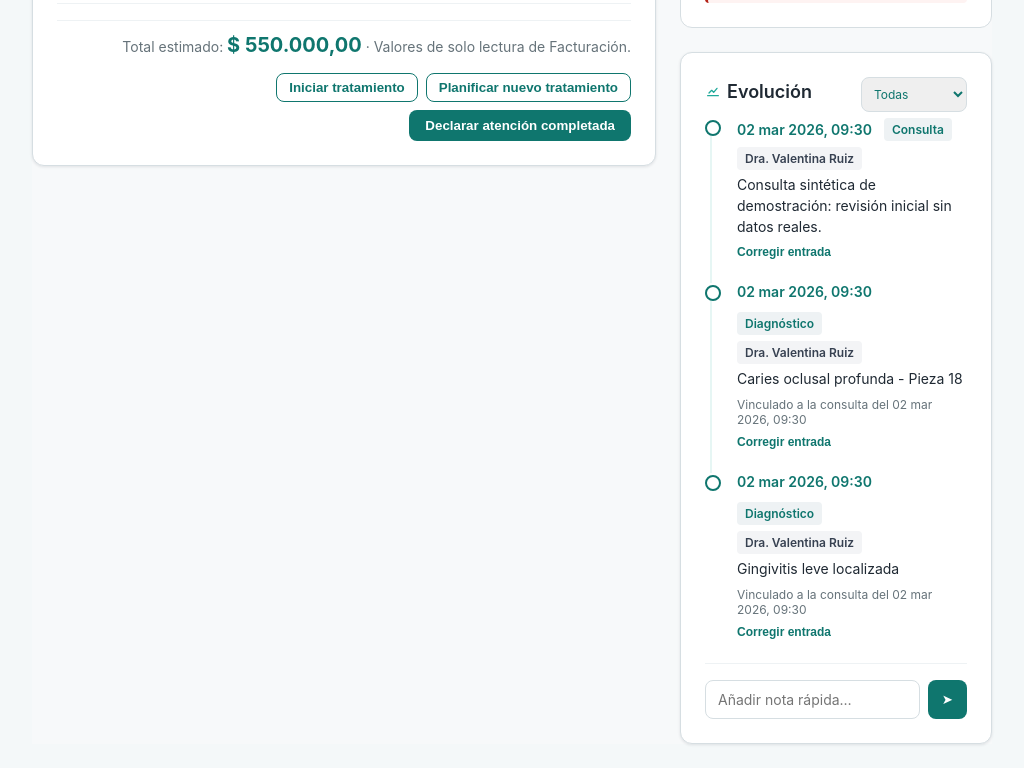
ClinicalPortalComposition › adds a quick evolution note from the Evolución card
(page scrolled)
Expected: the text "Consulta sintética de demostración: revisión inicial sin datos reales." is shown, left=737, top=174, right=967, bottom=236
Expected: the heading "Evolución" is shown, left=705, top=80, right=812, bottom=102
In the field labelled "nota rápida": x=812, y=699 left=705, top=680, right=920, bottom=718, type "Control sin dolor"
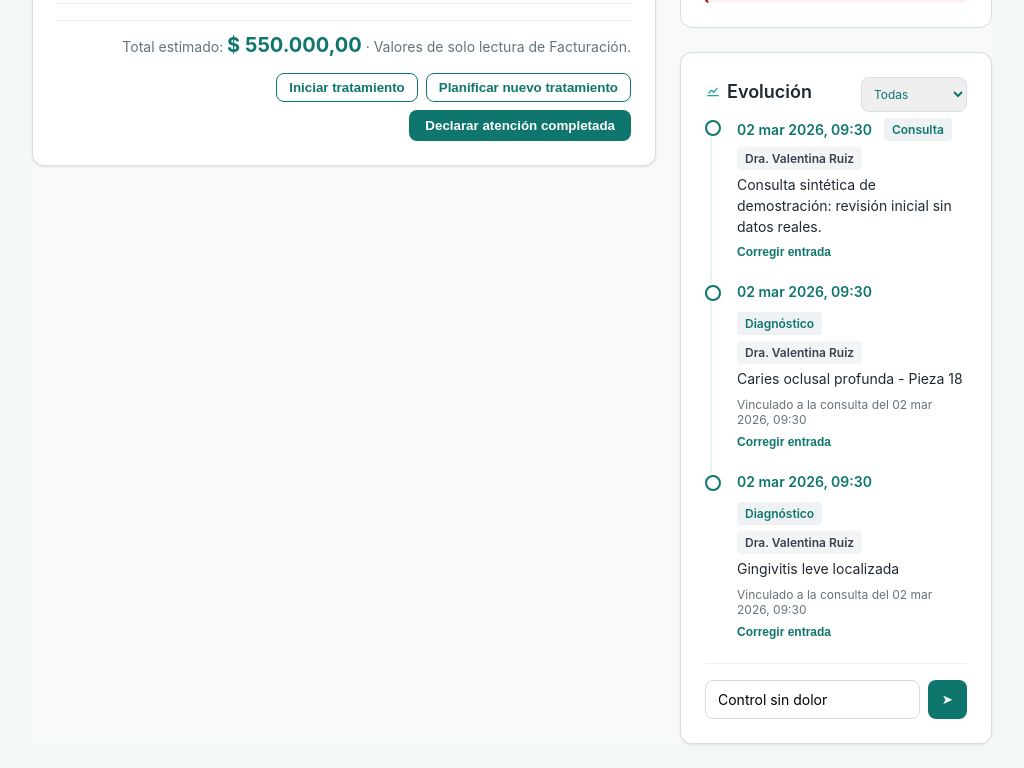
Click the button named "Enviar nota": x=947, y=699 left=928, top=680, right=967, bottom=718
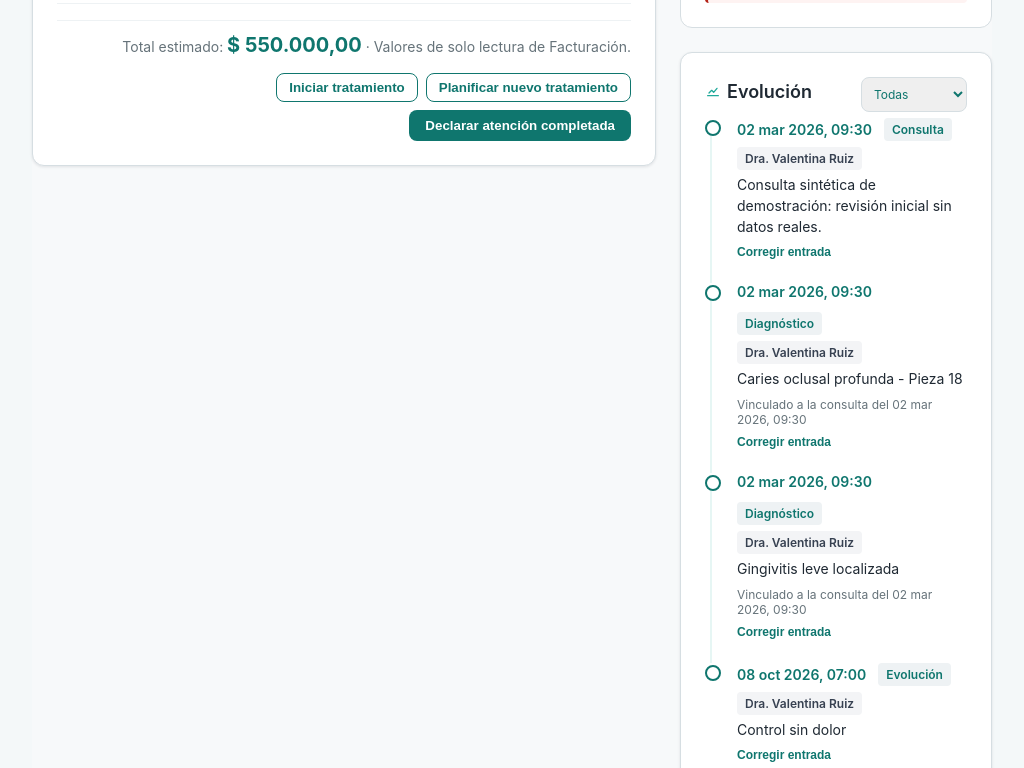
Expected: the text "Consulta sintética de demostración: revisión inicial sin datos reales." is shown, left=737, top=174, right=967, bottom=236
Result: the text "Control sin dolor" is shown at left=736, top=720, right=846, bottom=738
